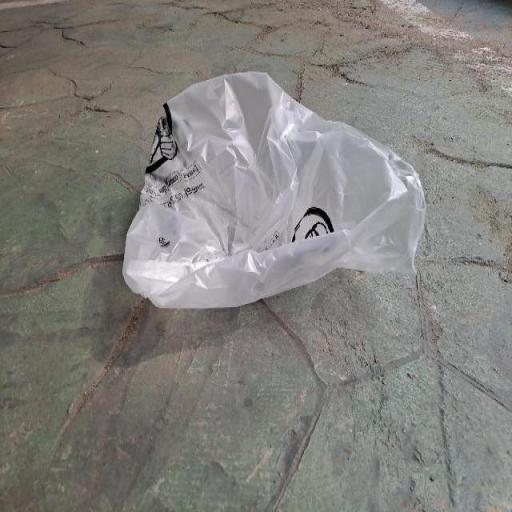plastic-bag: (121, 70, 428, 316)
